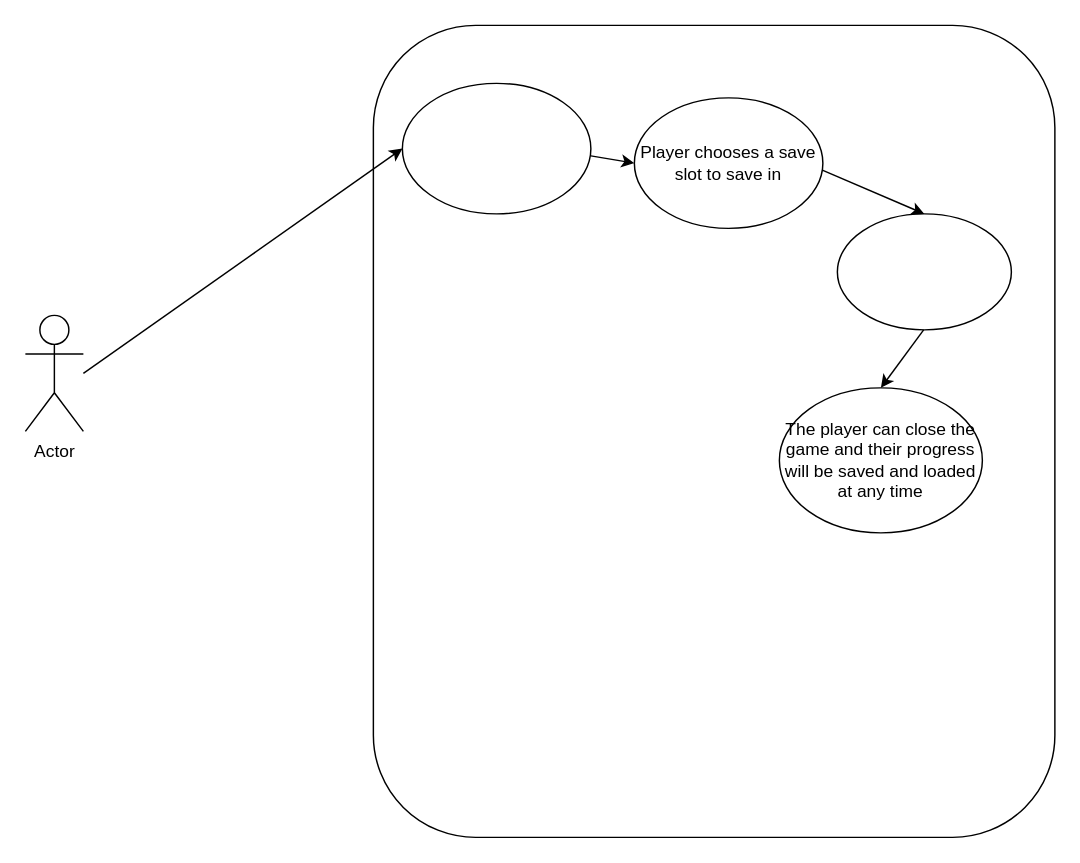
This 1080x863 diagram has some shape labels left out. Each missing label, with the centre of its shape:
Player Navigates to the save option in the inventory: the point at 496,148
The game writes that save data to the "save" folder found in the files: the point at 923,271
